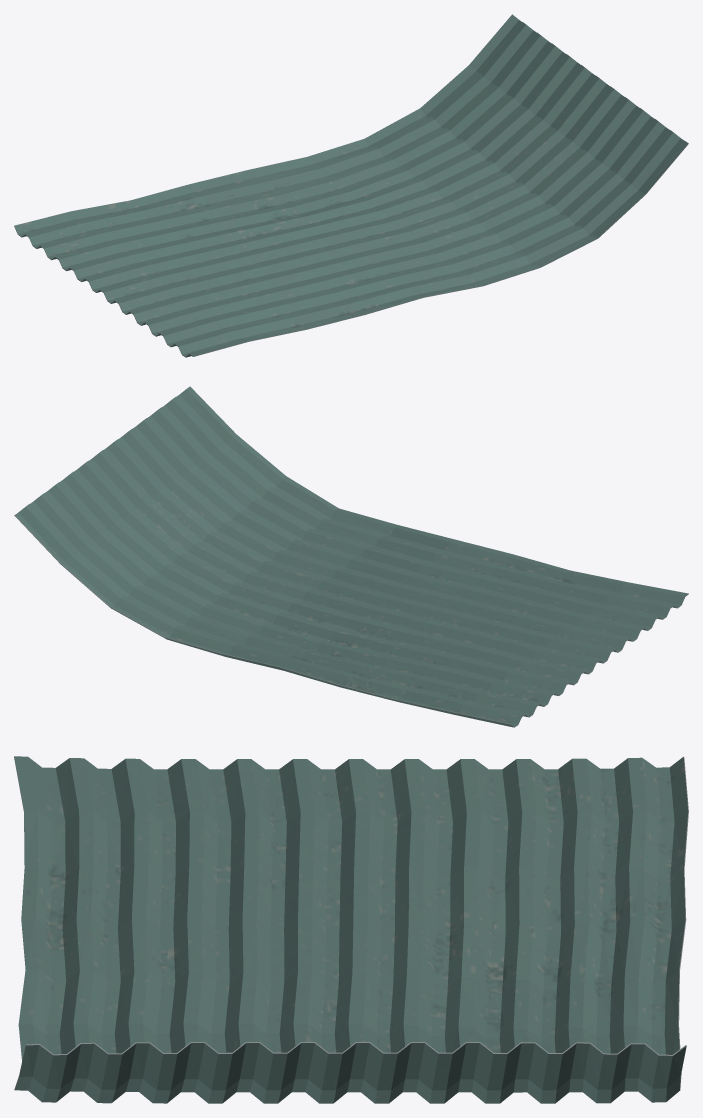
Rendered from corrugated_sheet_bent.glb.
3 views of the same model, one above another, from view 1: azimuth 30°, elevation 25°; view 2: azimuth 150°, elevation 25°; view 3: azimuth 270°, elevation 25° (orthographic). The views are drawn at different scales.
Visible parts, largest first — view 1: CorrugatedSheetBent; view 2: CorrugatedSheetBent; view 3: CorrugatedSheetBent.
Boxes of the visible parts, box(x1,y1,x2,y2) form: CorrugatedSheetBent: box(14, 14, 688, 357); CorrugatedSheetBent: box(14, 386, 688, 727); CorrugatedSheetBent: box(14, 756, 688, 1103).
Bounding box in the file's own units: 1.92 × 0.3707 × 1.19.
Materials: 1 (1 with a texture image).
